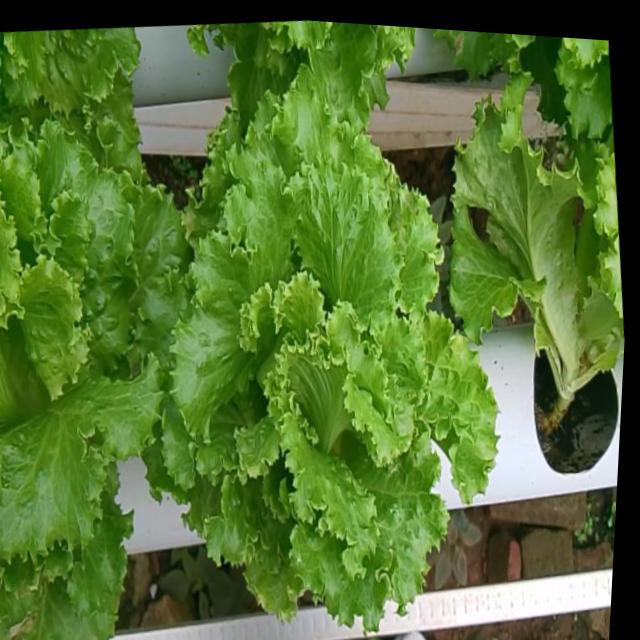Mature: (154, 102, 488, 640), (0, 131, 179, 577)
